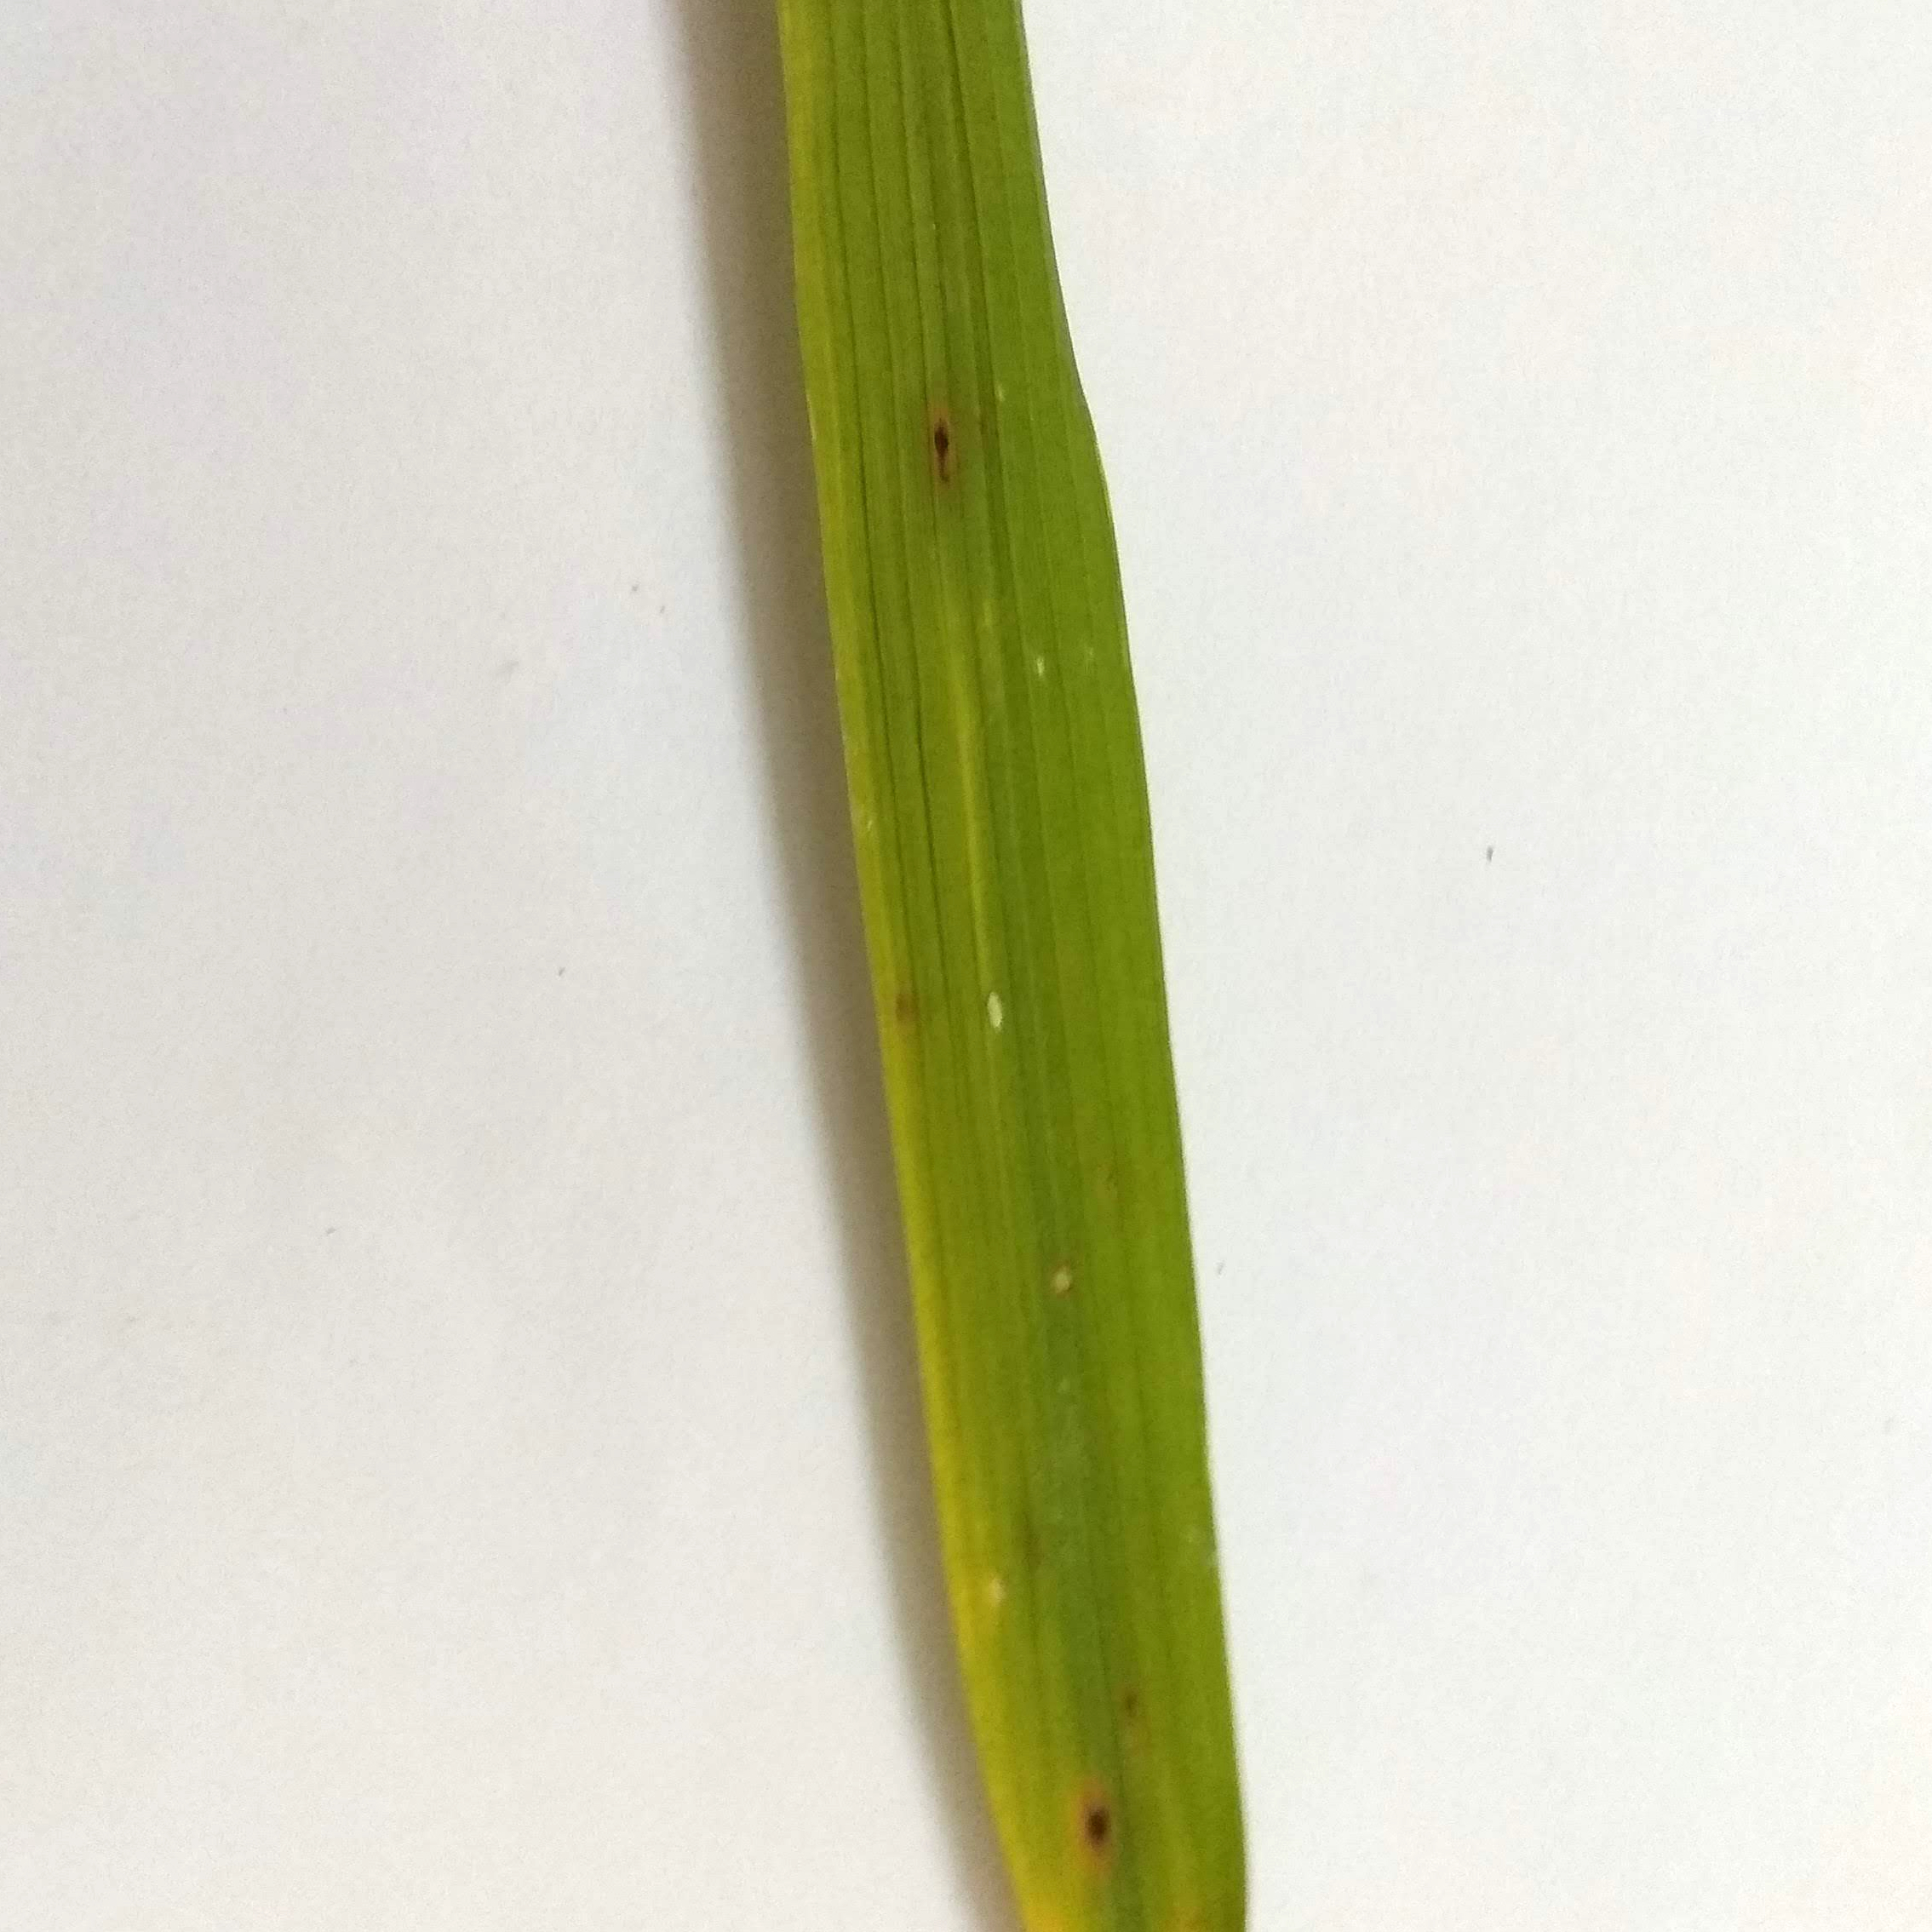brown spot: (902, 402, 973, 510), (1067, 1782, 1123, 1872), (874, 978, 931, 1046), (1104, 1674, 1155, 1721)
